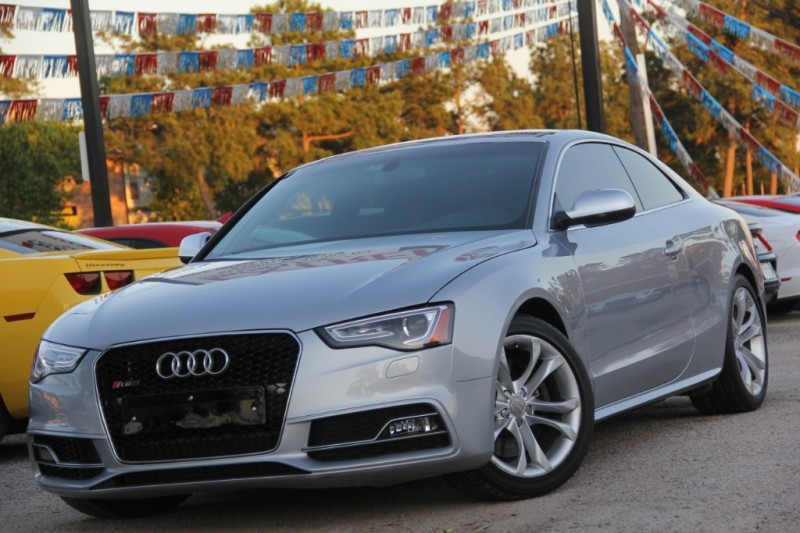audi: (151, 345, 237, 387)
